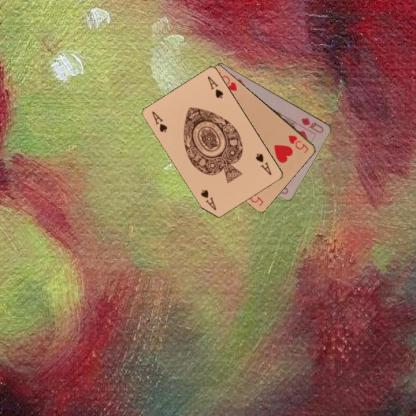5h: (286, 132, 310, 154)
As: (253, 151, 273, 176), (150, 108, 168, 134)
Qd: (299, 115, 325, 134)
